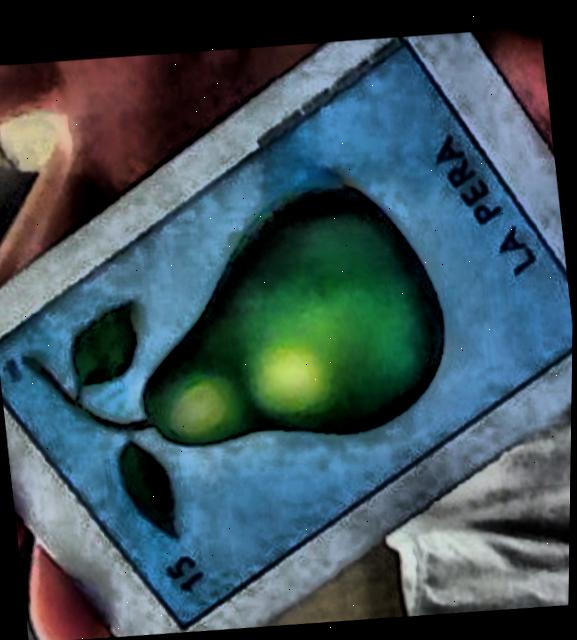La Pera: (0, 34, 573, 627)
